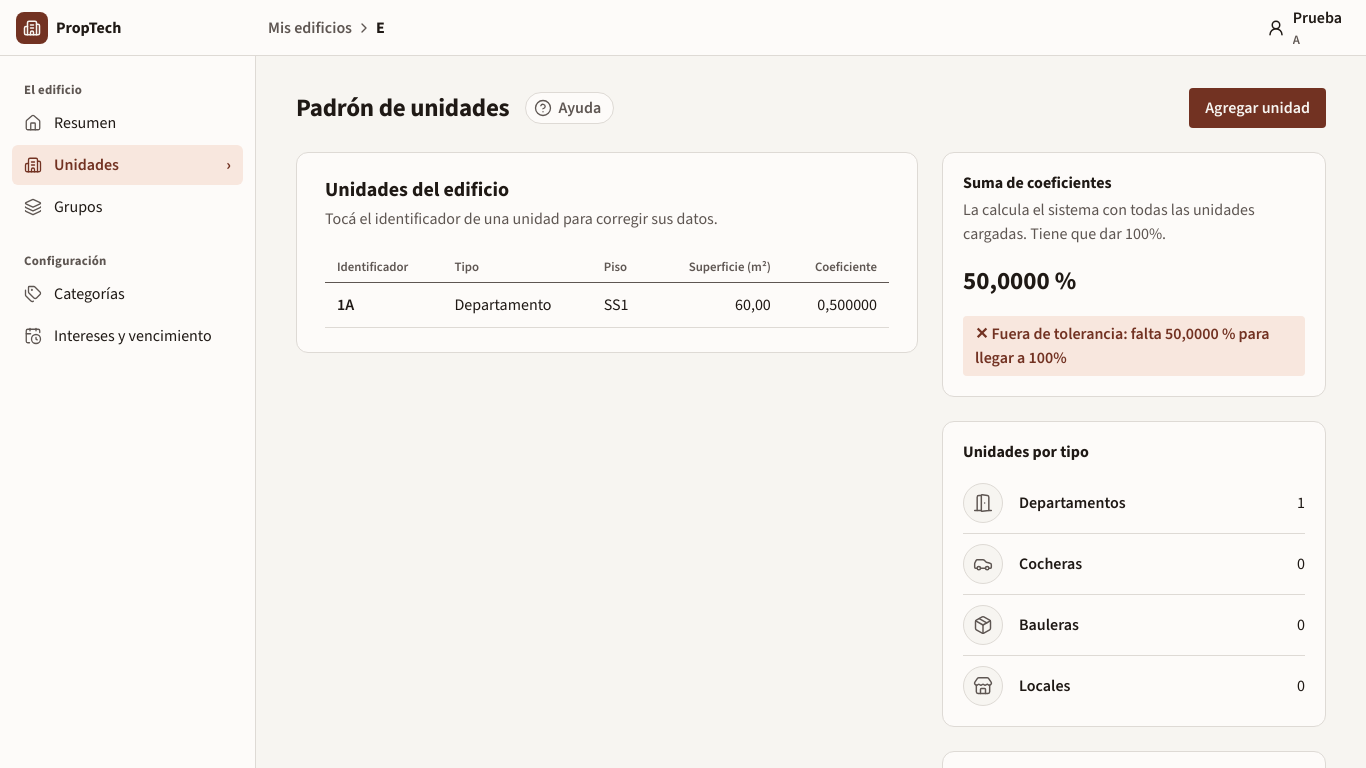
Test: rompedor: editar una unidad con piso SS1 la deja preseleccionada y la lista de 2 subsuelos va en orden de altura
This screenshot has width=1366, height=768.
Click the button "1A".
click(346, 305)  # box [337,295,354,314]
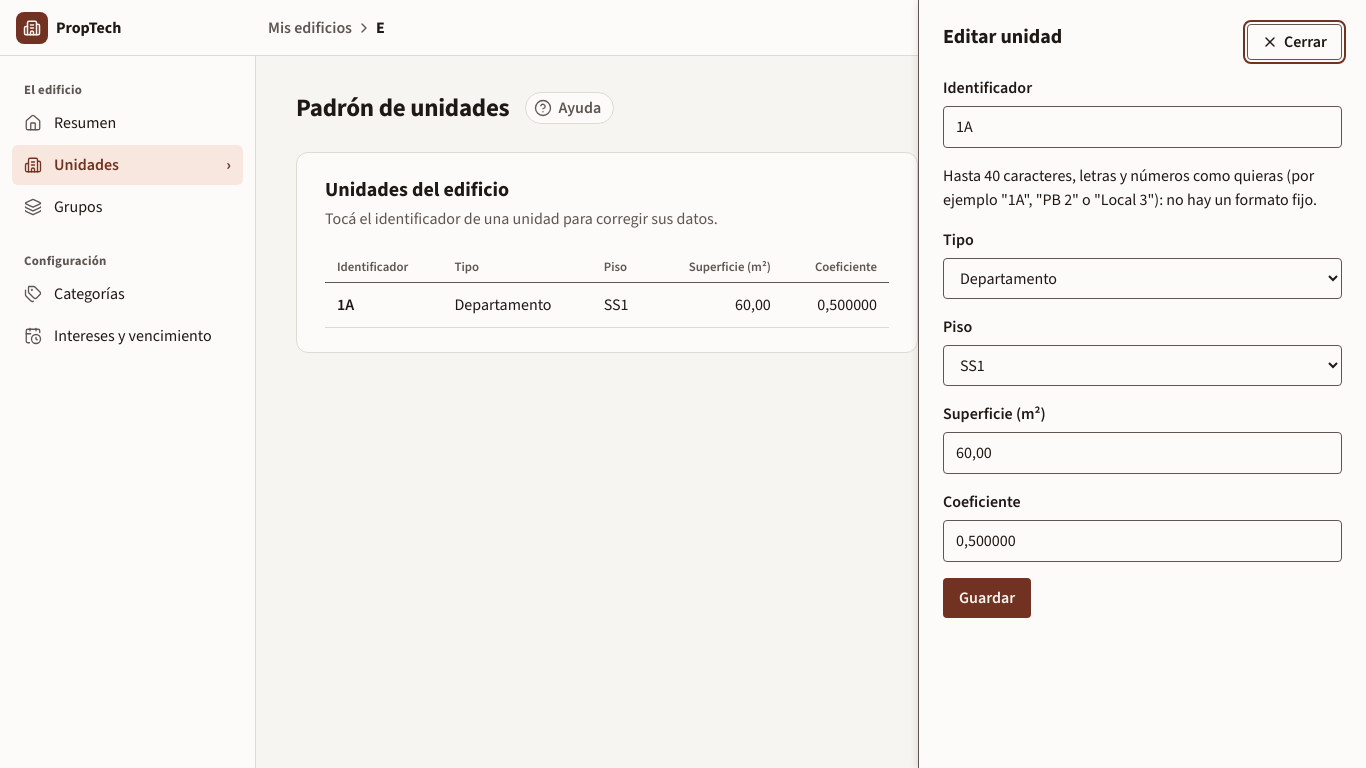
Expected: the dropdown labelled "Piso" shows "SS1", [943,345,1342,386]
